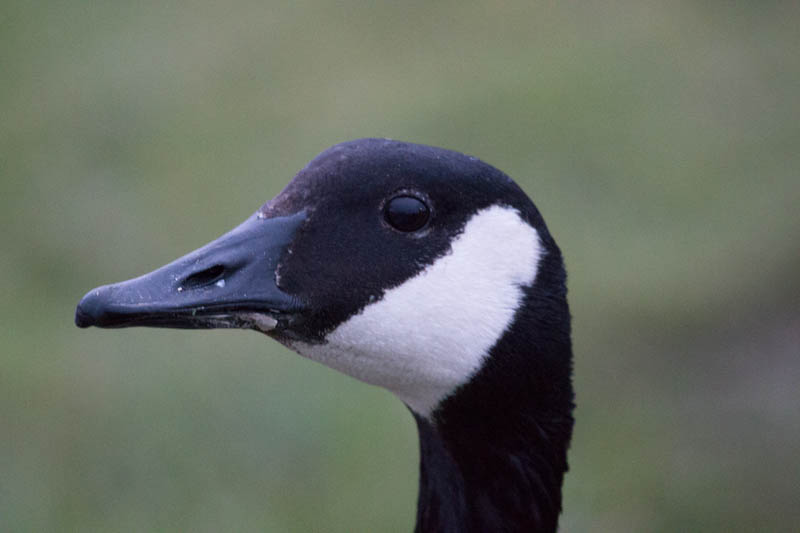goose-head: (74, 137, 574, 422)
